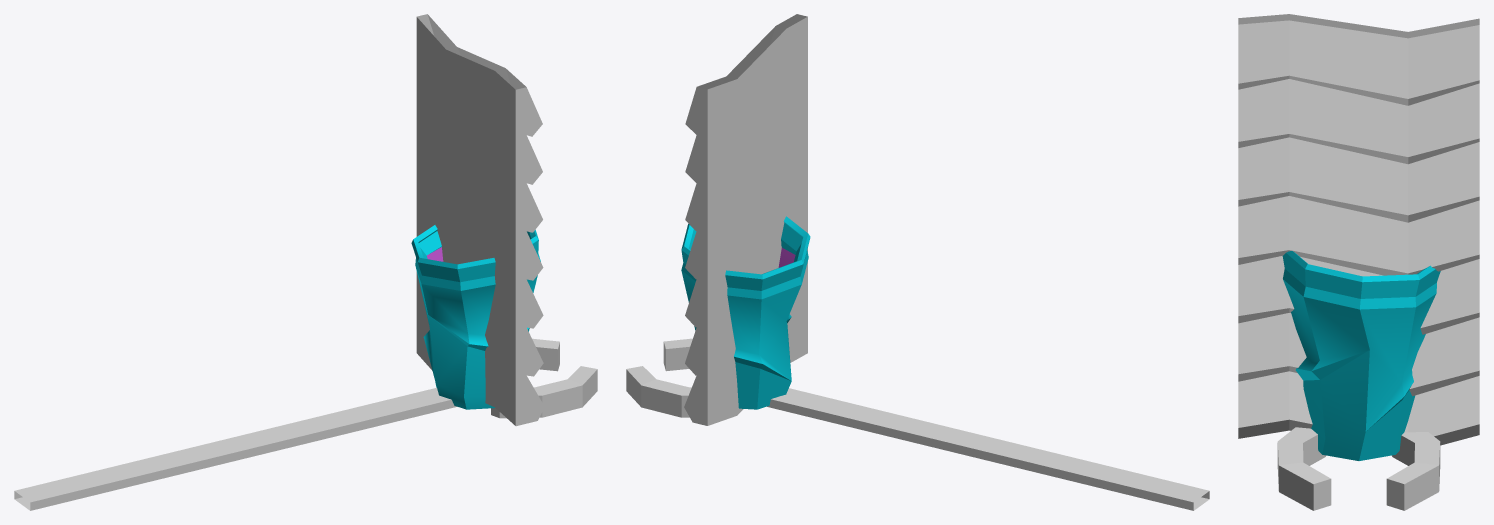
File: SM_SlushServingAnim.fbx
3 views of the same model, side by side, from view 1: azimuth 30°, elevation 25°; view 2: azimuth 150°, elevation 25°; view 3: azimuth 270°, elevation 25° (orthographic). The views are drawn at different scales.
Parts seen in each view (by area): view 1: SM_SlushCurtain, SM_SlushArm, SM_Glass, SM_SlushClaw_R, SM_SlushClaw_L; view 2: SM_SlushCurtain, SM_SlushArm, SM_Glass, SM_SlushClaw_L, SM_SlushClaw_R; view 3: SM_SlushCurtain, SM_Glass, SM_SlushClaw_R, SM_SlushClaw_L.
Boxes of the visible parts, bbox=[...] form: SM_SlushCurtain: bbox=[416, 14, 544, 426]; SM_SlushArm: bbox=[14, 387, 456, 510]; SM_Glass: bbox=[411, 225, 540, 409]; SM_SlushClaw_R: bbox=[491, 366, 597, 418]; SM_SlushClaw_L: bbox=[532, 338, 559, 371]; SM_SlushCurtain: bbox=[684, 14, 807, 425]; SM_SlushArm: bbox=[767, 388, 1209, 510]; SM_Glass: bbox=[681, 216, 810, 409]; SM_SlushClaw_L: bbox=[626, 366, 691, 417]; SM_SlushClaw_R: bbox=[663, 338, 692, 371]; SM_SlushCurtain: bbox=[1238, 14, 1479, 445]; SM_Glass: bbox=[1282, 251, 1440, 460]; SM_SlushClaw_R: bbox=[1277, 427, 1331, 510]; SM_SlushClaw_L: bbox=[1386, 432, 1440, 510].
Size of the model in its own units: 80.27 by 48.94 by 24.9.
